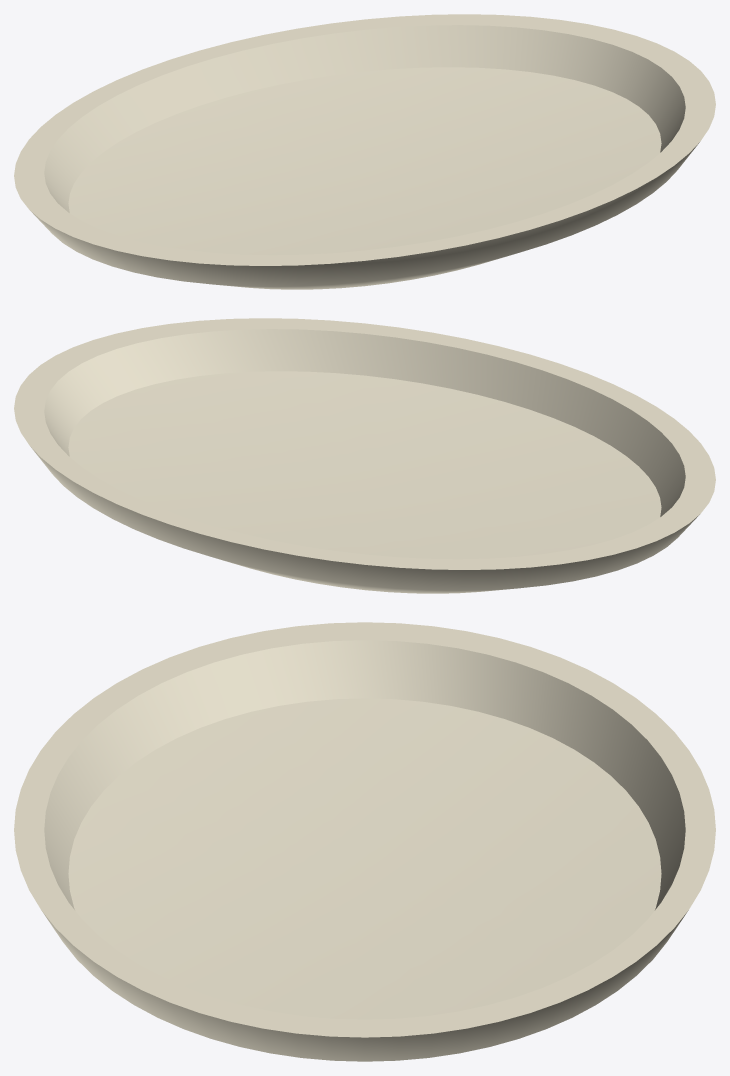
The model's file is ceramics-pottery-studio-oval-serving-platter-66d93df2__29519.glb.
The picture shows the model from 3 angles, top to bottom: view 1: azimuth 30°, elevation 25°; view 2: azimuth 150°, elevation 25°; view 3: azimuth 270°, elevation 25°; orthographic projection. The views are drawn at different scales.
Parts seen in each view (by area): view 1: oval-serving-platter; view 2: oval-serving-platter; view 3: oval-serving-platter.
Part boxes in pixels (bbox=[...]): oval-serving-platter: bbox=[14, 14, 715, 289]; oval-serving-platter: bbox=[14, 318, 715, 593]; oval-serving-platter: bbox=[14, 622, 715, 1061].
Bounding box in the file's own units: 0.812 × 0.075 × 0.58.
